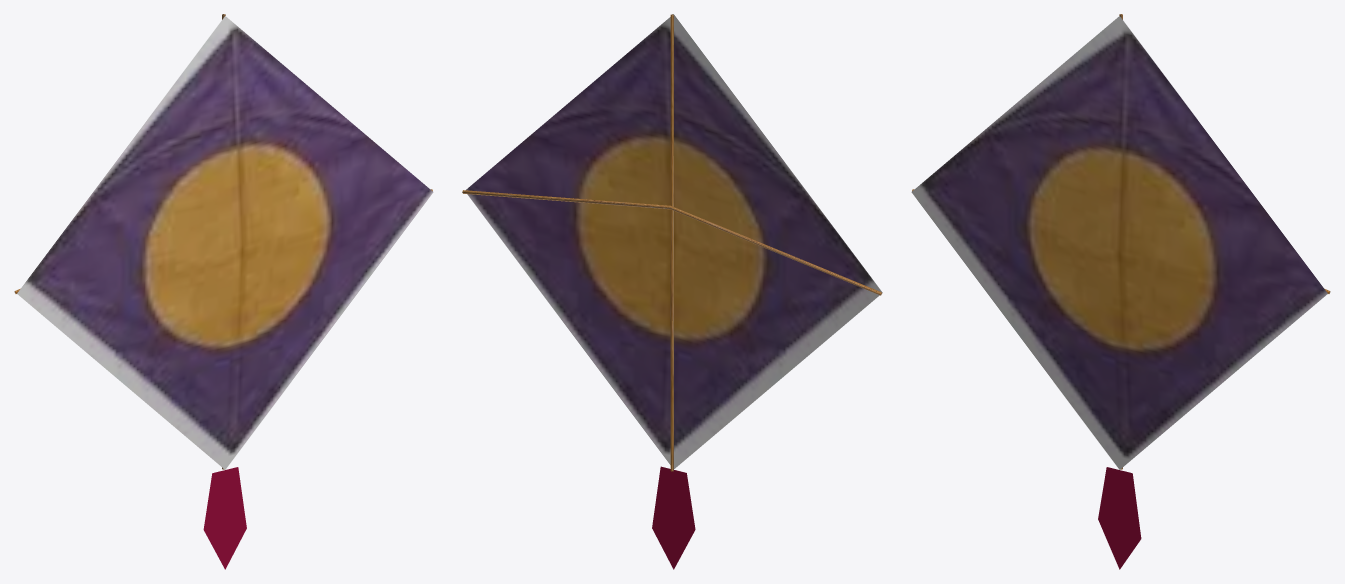
Rendered from prop_kite_ghuri.glb.
3 renders of one model, left to right at view 1: azimuth 30°, elevation 25°; view 2: azimuth 150°, elevation 25°; view 3: azimuth 330°, elevation 25°, orthographic.
Visible parts, largest first — view 1: prop_kite_ghuri; view 2: prop_kite_ghuri; view 3: prop_kite_ghuri.
Part boxes in pixels (x1=…): prop_kite_ghuri: x1=14, y1=14, x2=433, y2=569; prop_kite_ghuri: x1=462, y1=14, x2=882, y2=569; prop_kite_ghuri: x1=911, y1=14, x2=1330, y2=569.
Bounding box in the file's own units: 0.394 × 0.5 × 0.0213.
Materials: 3 (2 with a texture image).
